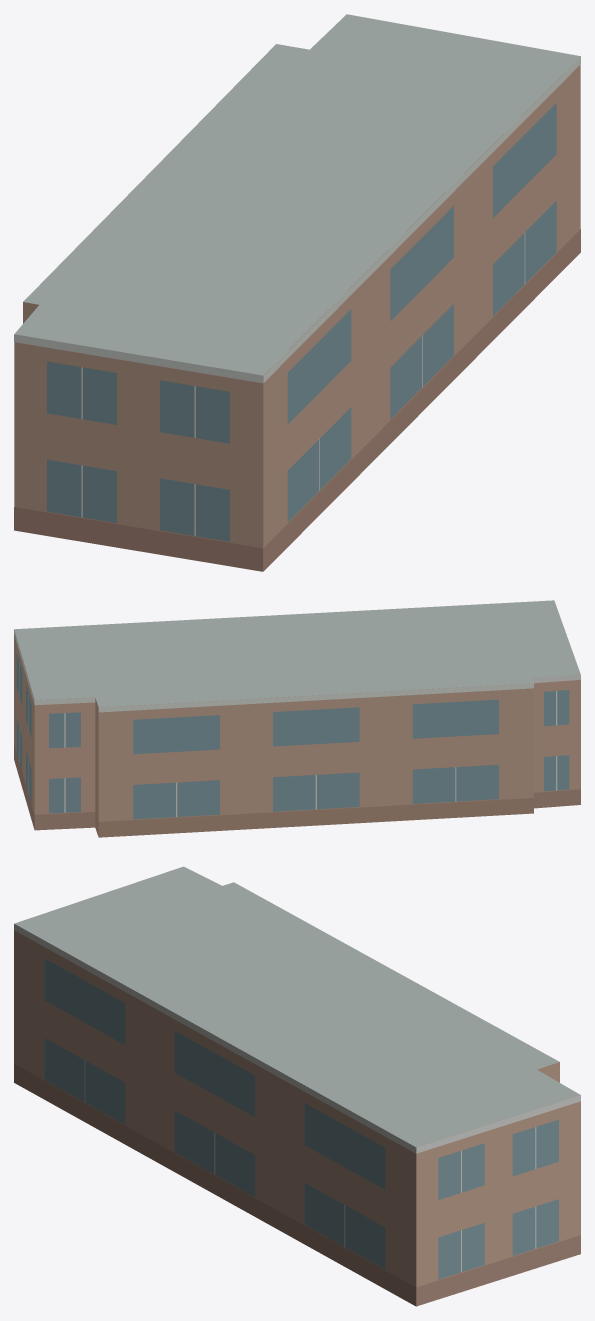
Rendered from survey-upis-32973385.glb.
3 views of the same model, one above another, from view 1: azimuth 30°, elevation 25°; view 2: azimuth 150°, elevation 25°; view 3: azimuth 270°, elevation 25° (orthographic). The views are drawn at different scales.
Visible parts, largest first — view 1: survey-upis-32973385.tmp; view 2: survey-upis-32973385.tmp; view 3: survey-upis-32973385.tmp.
Boxes of the visible parts, <box> form: survey-upis-32973385.tmp: <box>14,14,580,571</box>; survey-upis-32973385.tmp: <box>14,600,580,837</box>; survey-upis-32973385.tmp: <box>14,866,580,1306</box>.
Size of the model in its own units: 23.11 by 6.1 by 19.7.
